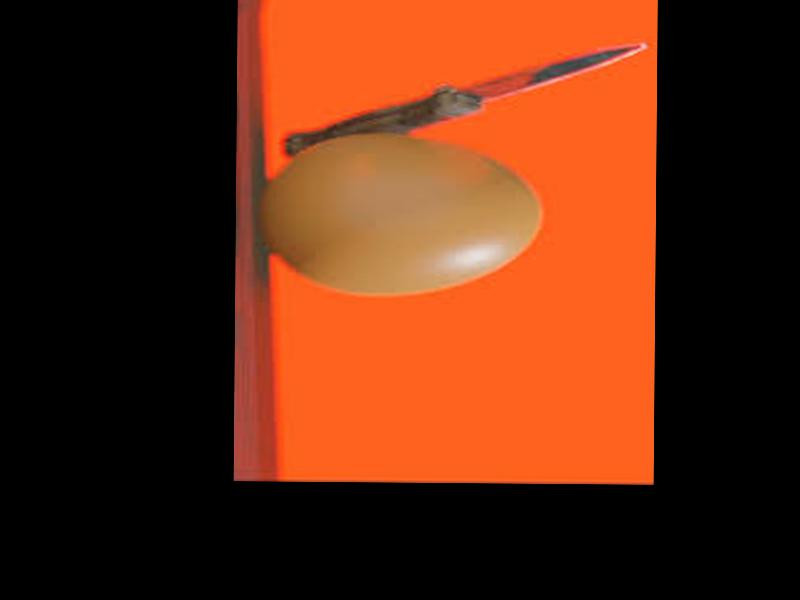Eggs: (264, 133, 538, 294)
